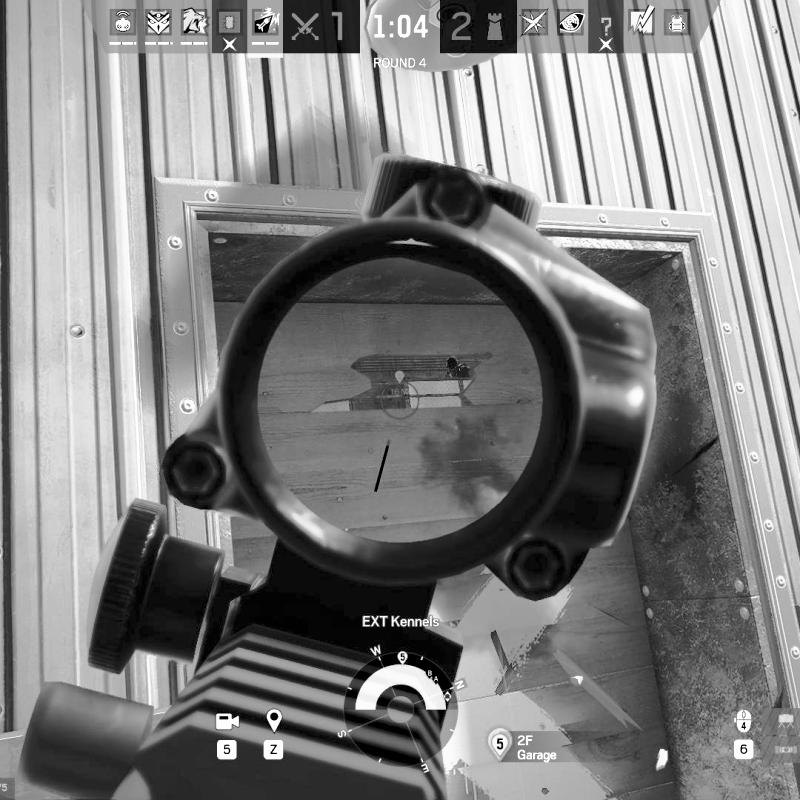Character: (439, 356, 472, 379)
Head: (446, 357, 459, 371)
